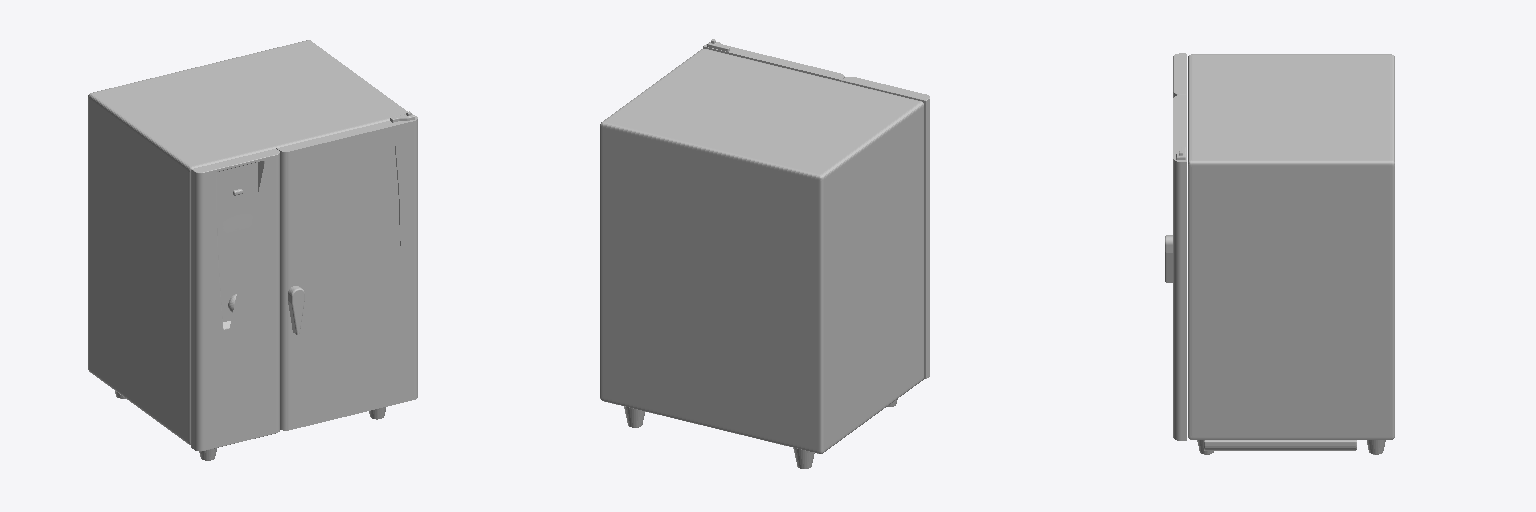
Rendered from oven.obj.
3 renders of one model, left to right at view 1: azimuth 30°, elevation 25°; view 2: azimuth 150°, elevation 25°; view 3: azimuth 270°, elevation 25°, orthographic.
Visible parts, largest first — view 1: Cube_Cube.001, Cube.002_Cube.003, Cube.001_Cube.000, Cube.006_Cube.008, Cube.017_Cube.005, Cube.009_Cube.011; view 2: Cube_Cube.001, Cube.001_Cube.000, Cube.002_Cube.003, Cylinder; view 3: Cube_Cube.001, Cube.002_Cube.003, Cube.005_Cube.006, Cube.001_Cube.000.
Boxes of the visible parts, x1=… form: Cube_Cube.001: x1=88, y1=40, x2=407, y2=444; Cube.002_Cube.003: x1=276, y1=115, x2=417, y2=430; Cube.001_Cube.000: x1=191, y1=149, x2=279, y2=451; Cube.006_Cube.008: x1=217, y1=162, x2=257, y2=321; Cube.017_Cube.005: x1=222, y1=214, x2=252, y2=251; Cube.009_Cube.011: x1=288, y1=286, x2=304, y2=334; Cube_Cube.001: x1=600, y1=49, x2=923, y2=453; Cube.001_Cube.000: x1=842, y1=77, x2=929, y2=378; Cube.002_Cube.003: x1=703, y1=44, x2=844, y2=81; Cylinder: x1=624, y1=399, x2=897, y2=468; Cube_Cube.001: x1=1188, y1=54, x2=1394, y2=439; Cube.002_Cube.003: x1=1173, y1=95, x2=1186, y2=440; Cube.005_Cube.006: x1=1204, y1=440, x2=1356, y2=450; Cube.001_Cube.000: x1=1173, y1=53, x2=1186, y2=97.
Bounding box in the file's own units: 2.49 × 3.29 × 2.22.